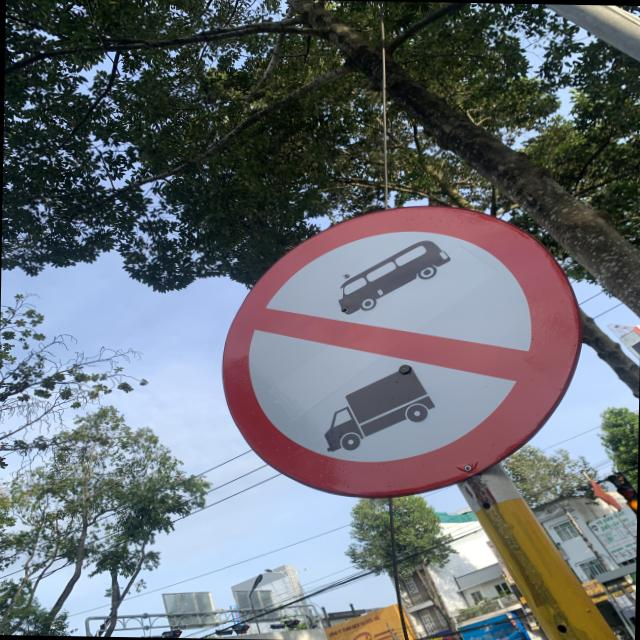Cam_XeTai_XeKhach: (221, 202, 586, 504)
